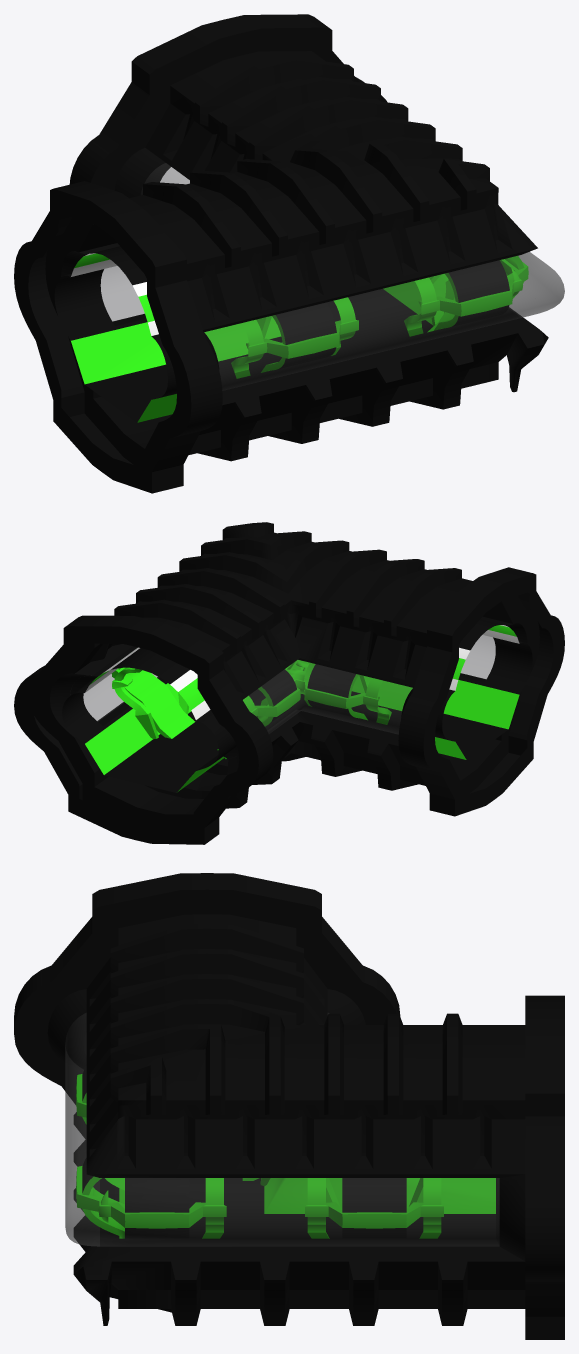
Rendered from Connect_02.FBX.
The picture shows the model from 3 angles, top to bottom: view 1: azimuth 30°, elevation 25°; view 2: azimuth 150°, elevation 25°; view 3: azimuth 270°, elevation 25°; orthographic projection. The views are drawn at different scales.
Parts seen in each view (by area): view 1: Conect_corner_group01; view 2: Conect_corner_group01; view 3: Conect_corner_group01.
Part boxes in pixels (x1=…): Conect_corner_group01: x1=14, y1=14, x2=564, y2=493; Conect_corner_group01: x1=14, y1=522, x2=564, y2=844; Conect_corner_group01: x1=14, y1=873, x2=564, y2=1339.
Bounding box in the file's own units: 1330 × 764 × 1330.
